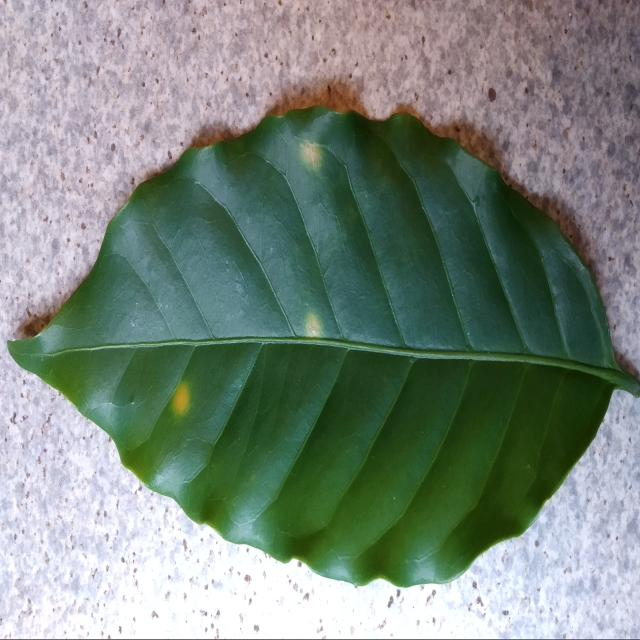Enfermedad-Roya: (7, 107, 640, 590)
